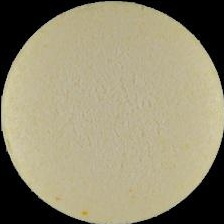50090-0200: (0, 0, 224, 224)
